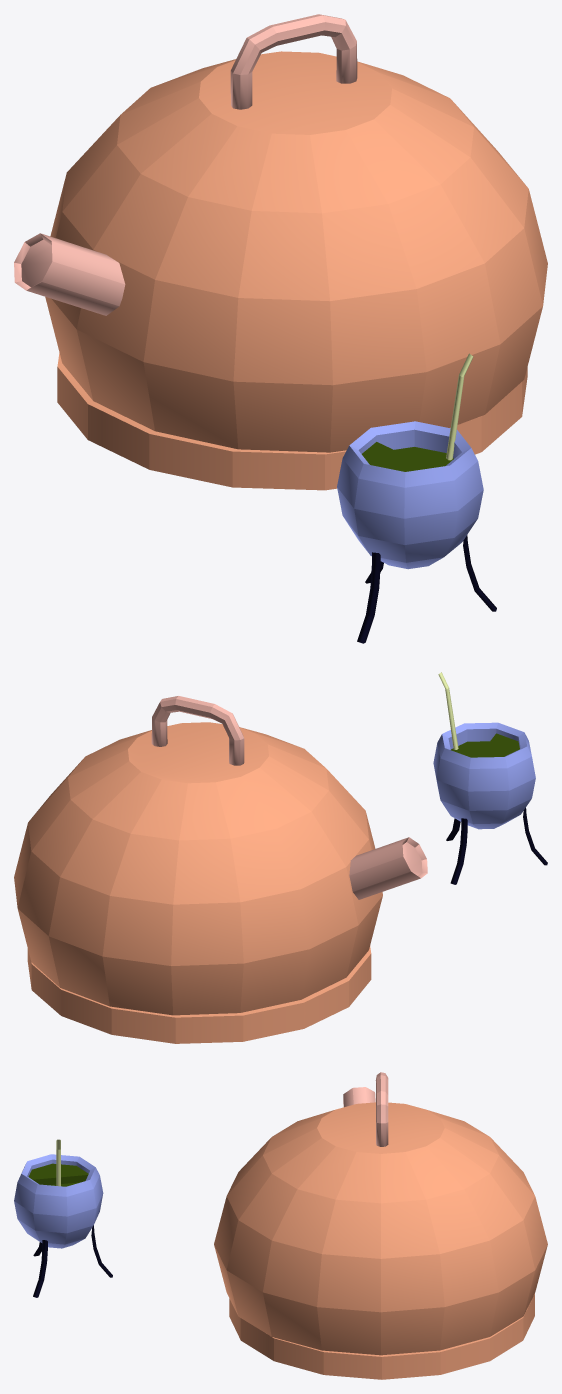
The model's file is mate.fbx.
3 renders of one model, top to bottom at view 1: azimuth 30°, elevation 25°; view 2: azimuth 150°, elevation 25°; view 3: azimuth 270°, elevation 25°, orthographic. The views are drawn at different scales.
Visible parts, largest first — view 1: Pava, Mate; view 2: Pava, Mate; view 3: Pava, Mate.
Boxes of the visible parts, x1,y1,x2,y2 form: Pava: [14, 14, 547, 490]; Mate: [337, 353, 496, 643]; Pava: [14, 696, 427, 1043]; Mate: [433, 672, 547, 884]; Pava: [214, 1072, 547, 1379]; Mate: [14, 1139, 112, 1297].
Bounding box in the file's own units: 740 × 515 × 1050.
